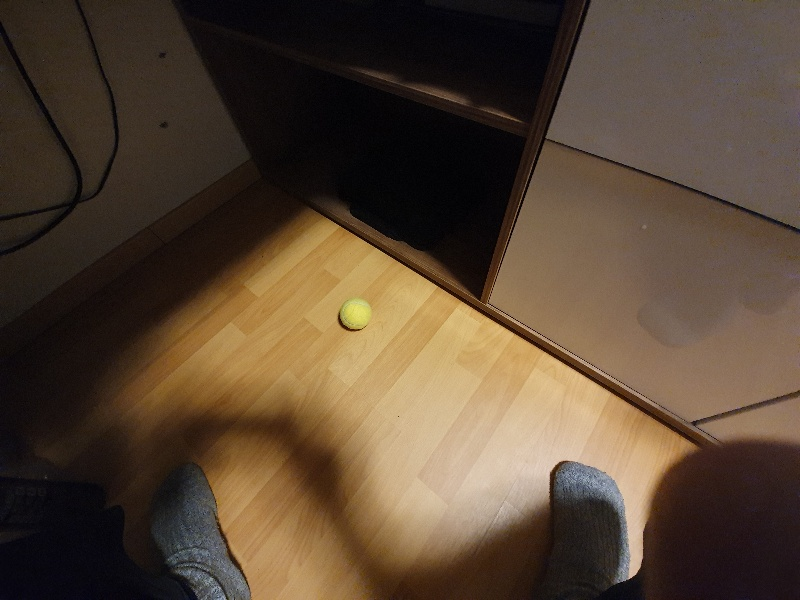Tennisball: (333, 293, 376, 335)
